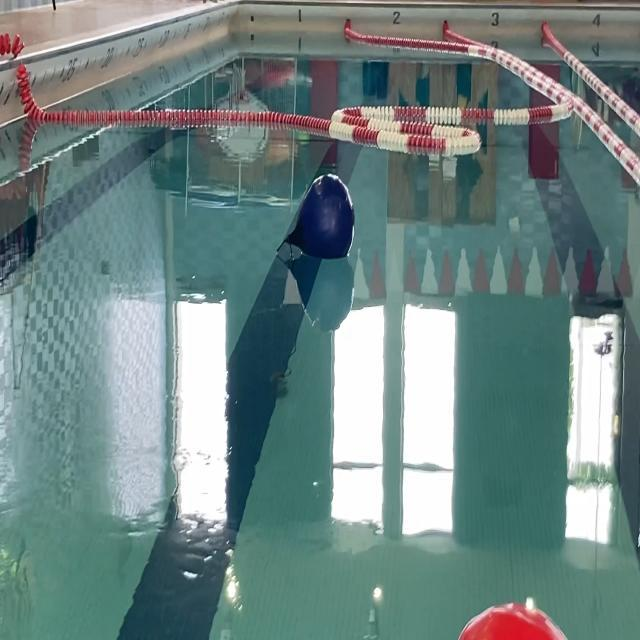buoy: (277, 172, 357, 263), (458, 598, 570, 640)
